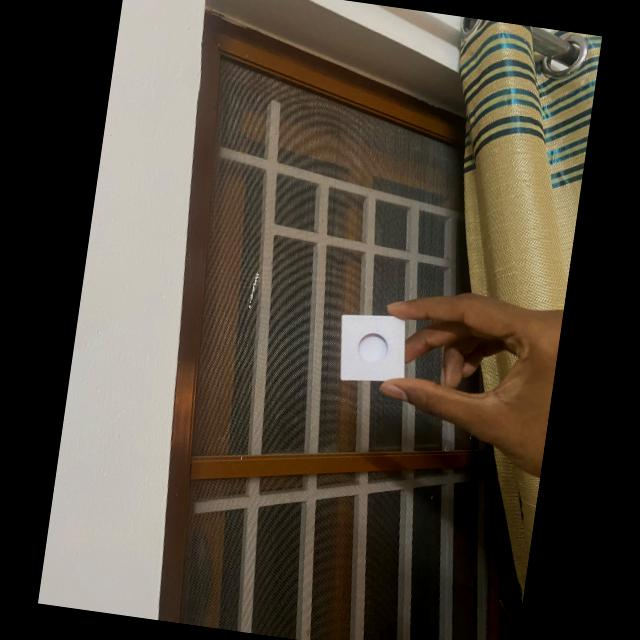RASPBERY PI CAM ENCLOSURE: (332, 308, 412, 389)
